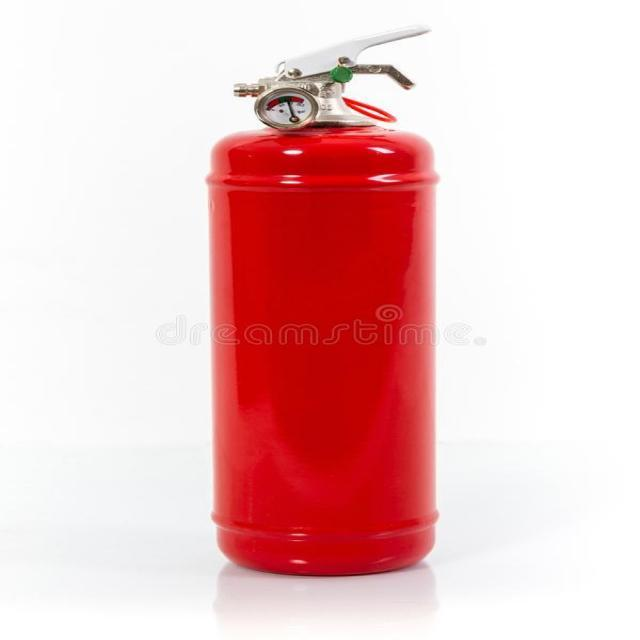fire_extinguisher: (203, 20, 448, 580)
